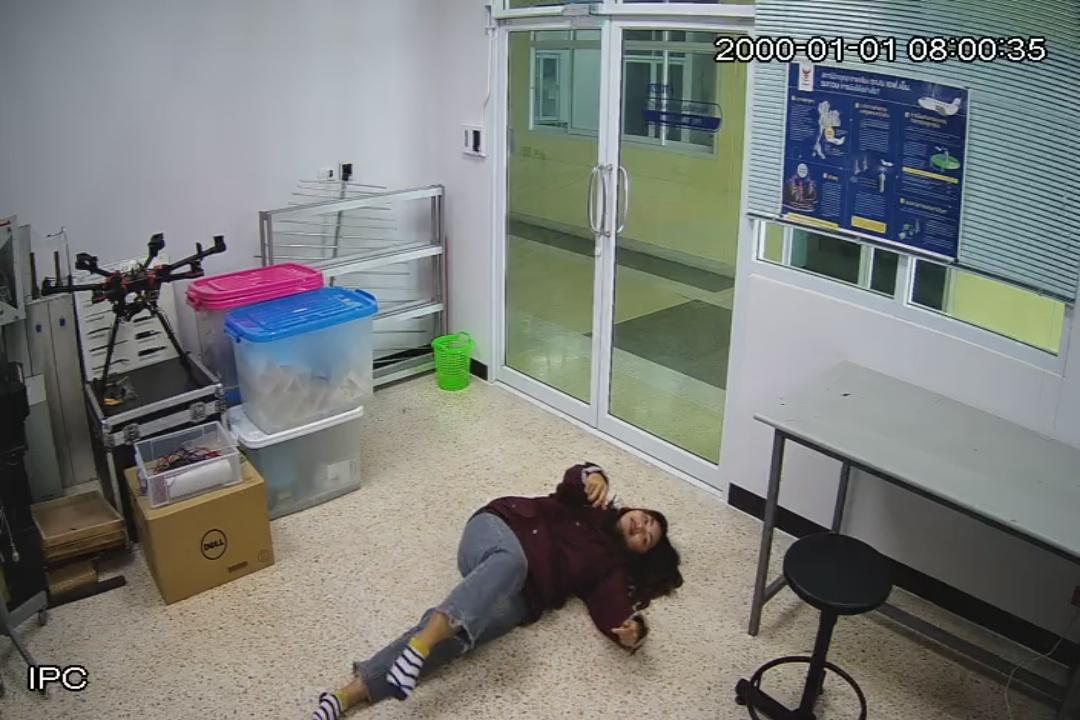fall: (313, 464, 673, 720)
